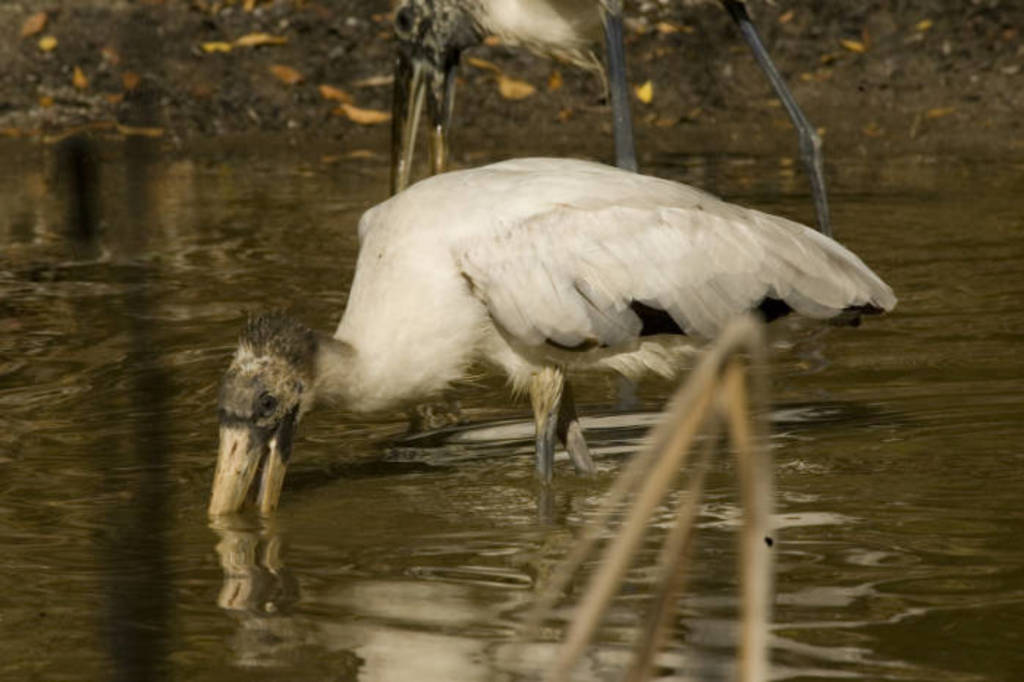Bird: (208, 157, 899, 518), (391, 0, 831, 234)
